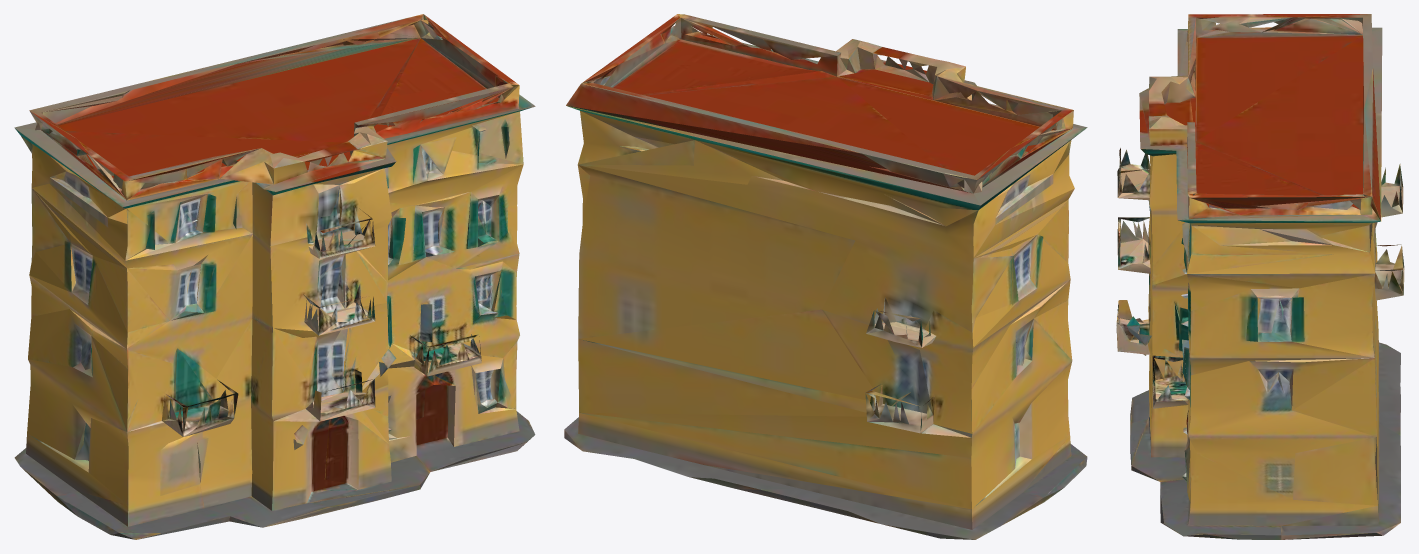
Rendered from building_1.glb.
The picture shows the model from 3 angles, left to right: view 1: azimuth 30°, elevation 25°; view 2: azimuth 150°, elevation 25°; view 3: azimuth 270°, elevation 25°; orthographic projection. The views are drawn at different scales.
Bounding box in the file's own units: 1.9 × 1.48 × 1.15.
1 material, 1 textured.
